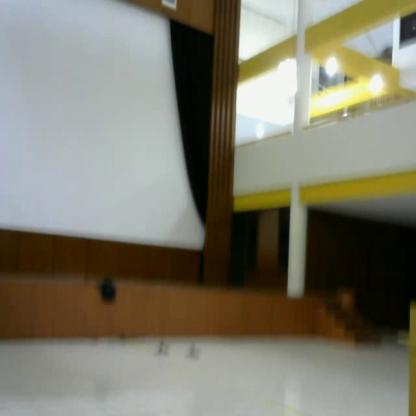pole: (393, 301, 416, 416)
